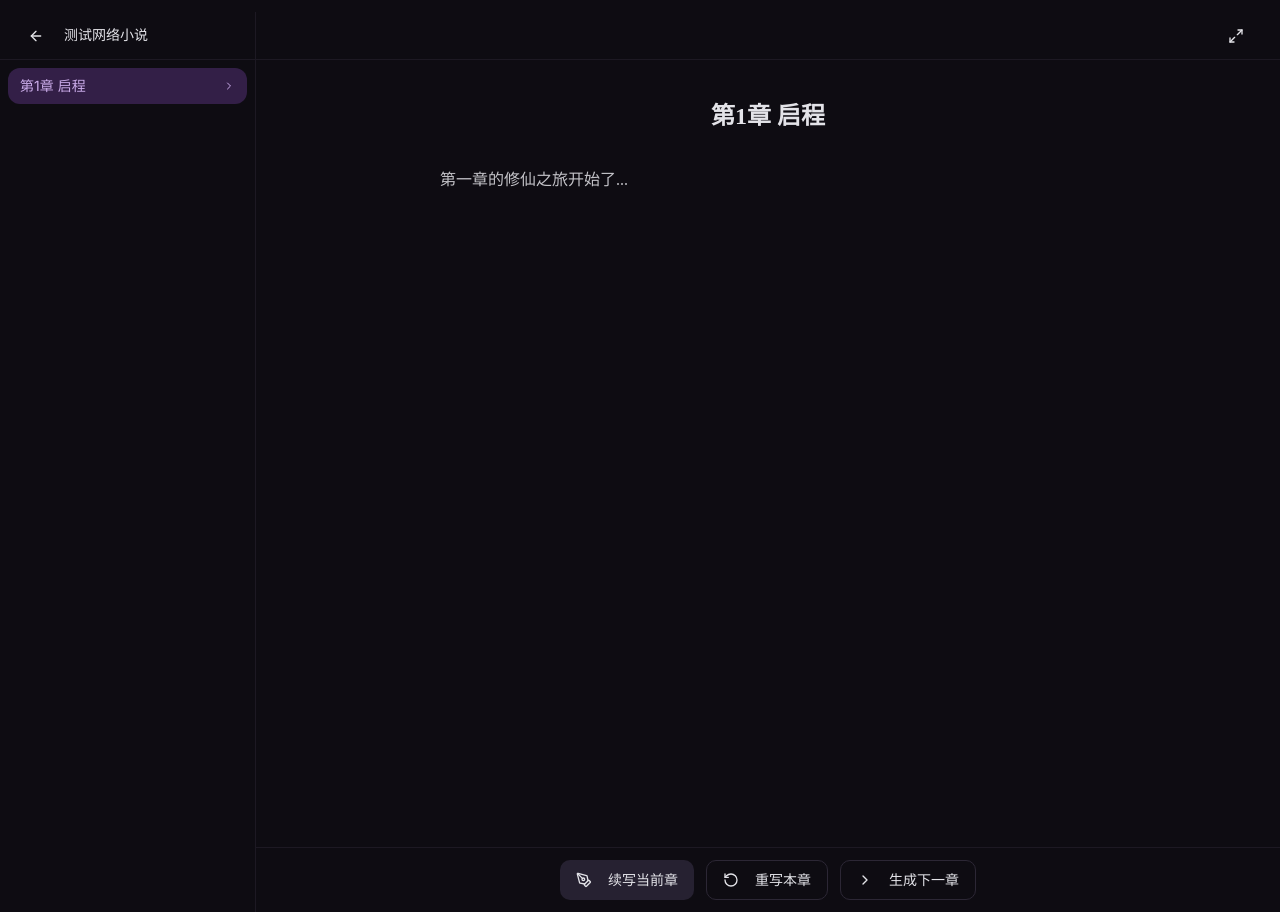
Scenario: NovelView 页面综合功能测试 › 流式生成完成时应当正确向 Supabase 插入新章节且新章节被选中
Click the button "生成下一章".
click(908, 880)  # box left=840, top=860, right=976, bottom=900
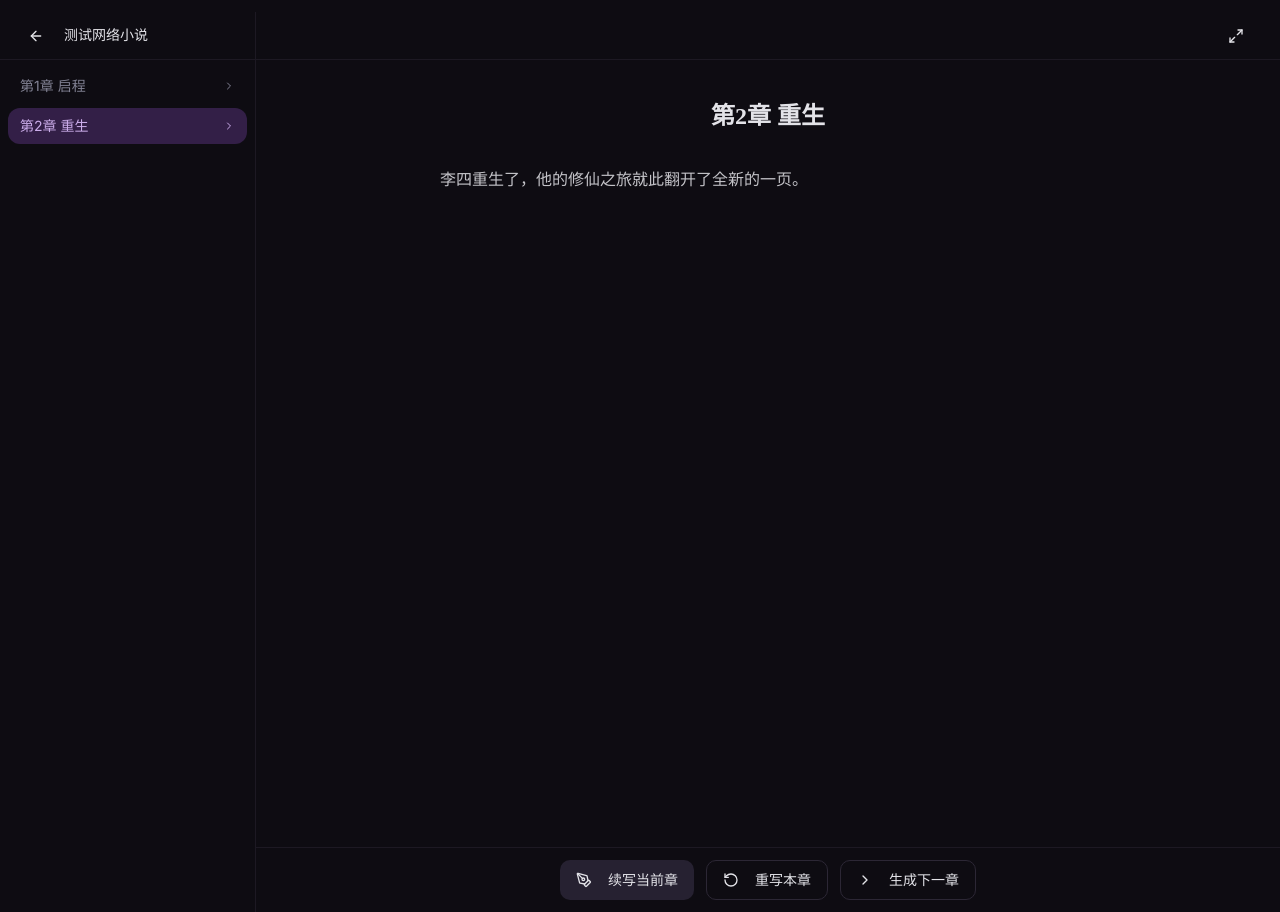
Check: the text "第2章" is shown, box left=20, top=116, right=88, bottom=136
Check: the text "重生" is shown, box left=60, top=117, right=88, bottom=134
Check: the text "李四重生了，他的修仙之旅就此翻开了全新的一页。" is shown, box left=440, top=171, right=808, bottom=188
